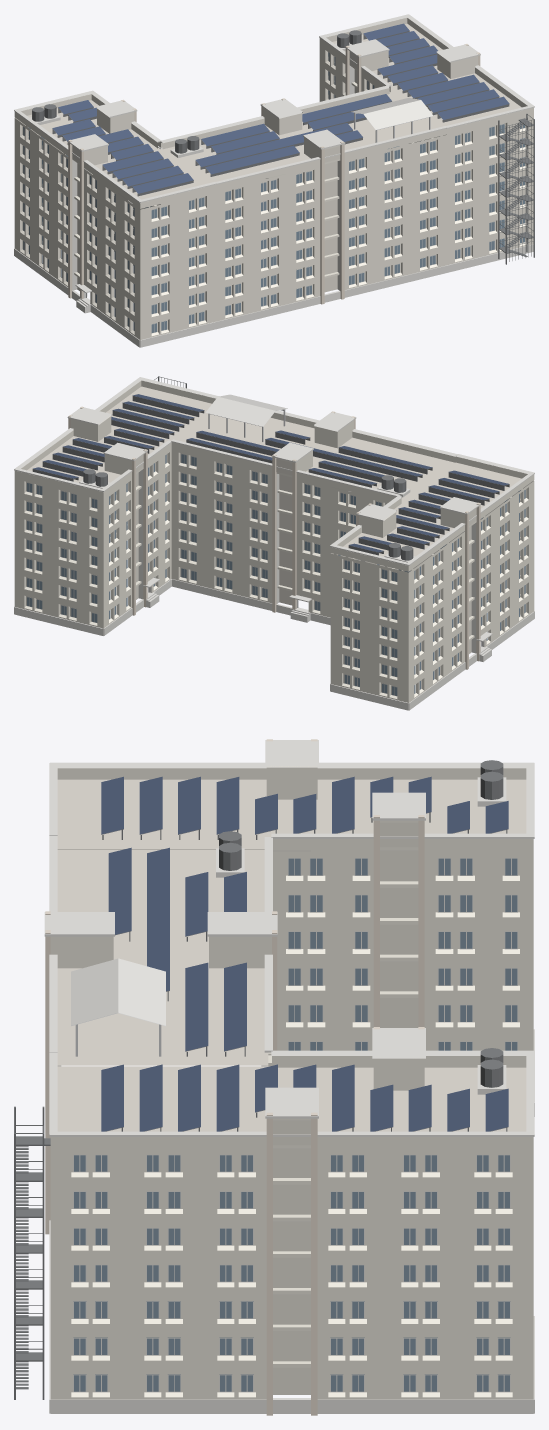
The model's file is Girls_Hostel_B.fbx.
The picture shows the model from 3 angles, top to bottom: view 1: azimuth 30°, elevation 25°; view 2: azimuth 150°, elevation 25°; view 3: azimuth 270°, elevation 25°; orthographic projection. The views are drawn at different scales.
Parts seen in each view (by area): view 1: Girls_Hostel_B; view 2: Girls_Hostel_B; view 3: Girls_Hostel_B.
Part boxes in pixels (x1,y1,x2,y2): Girls_Hostel_B: (14,14,534,347); Girls_Hostel_B: (14,376,534,710); Girls_Hostel_B: (14,739,534,1415).
Bounding box in the file's own units: 75.3 × 28.88 × 43.8.
